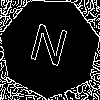N: (24, 22, 71, 76)
